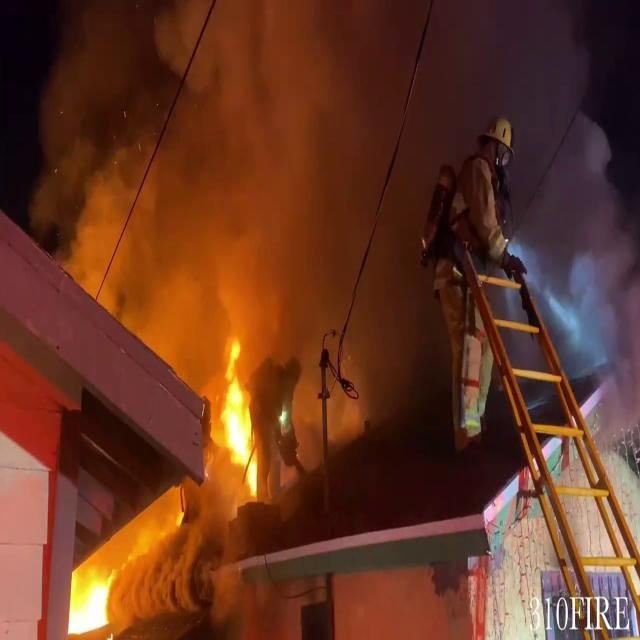Fire: (210, 334, 265, 501), (58, 560, 122, 638)
Smoke: (29, 0, 380, 341)
